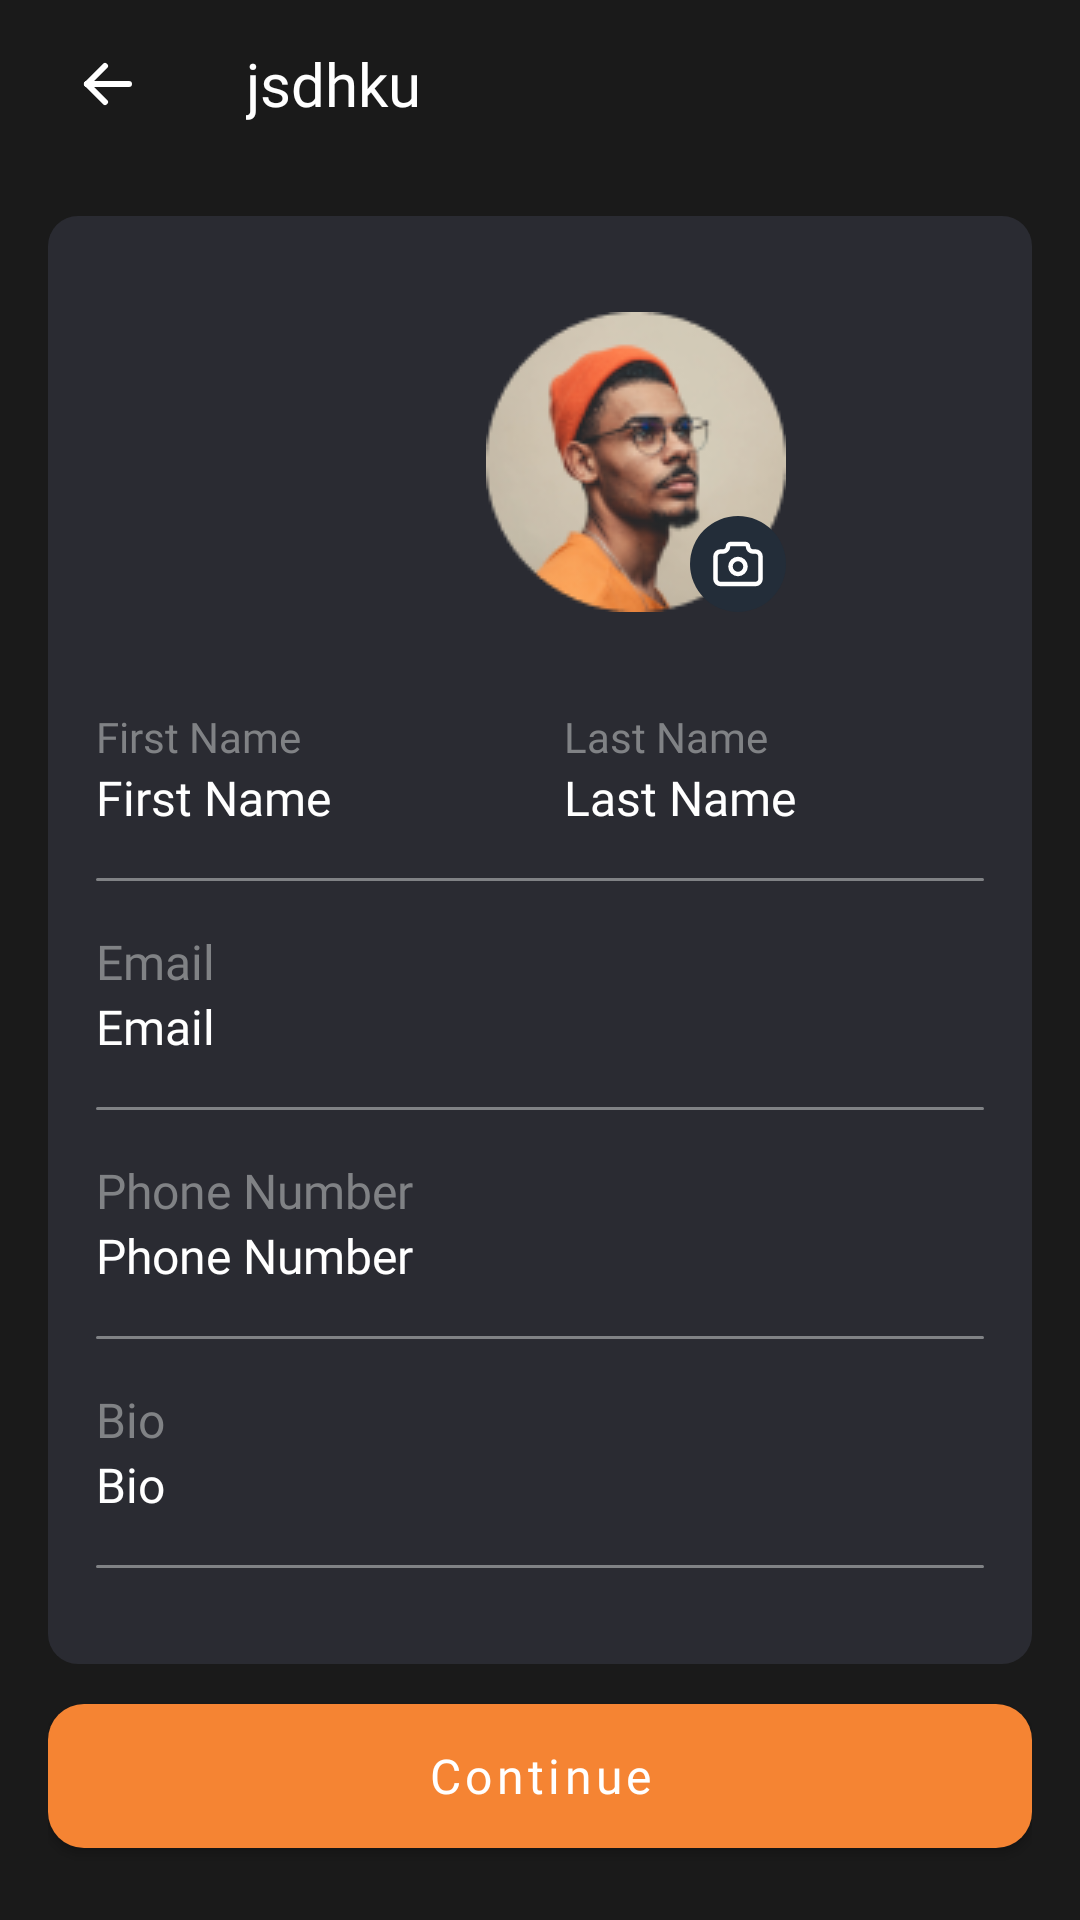

Screen size 1080 x 1920. Icon name, then its center in pixels as (x=x, y=y):
arrow left: (x=107, y=84)
camera: (x=738, y=564)
